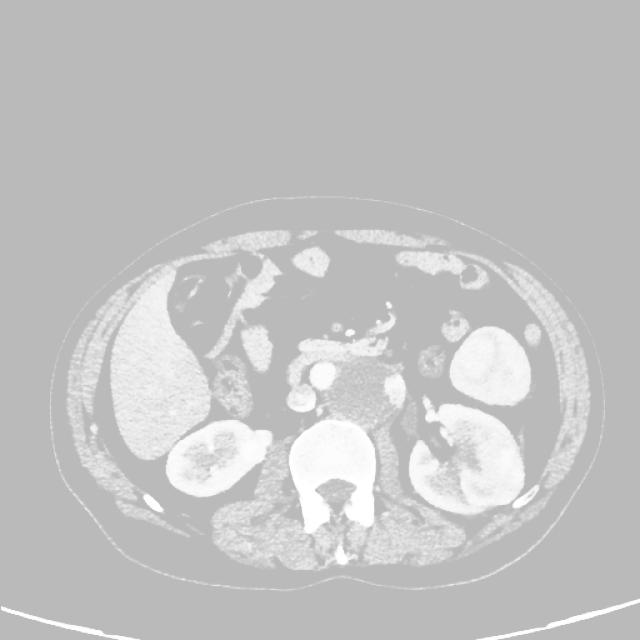TUMOR: (54, 257, 561, 534)
